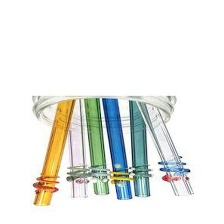drinking_straw: (136, 93, 196, 199), (30, 95, 77, 212), (98, 94, 136, 204)
glass: (28, 90, 182, 139)
